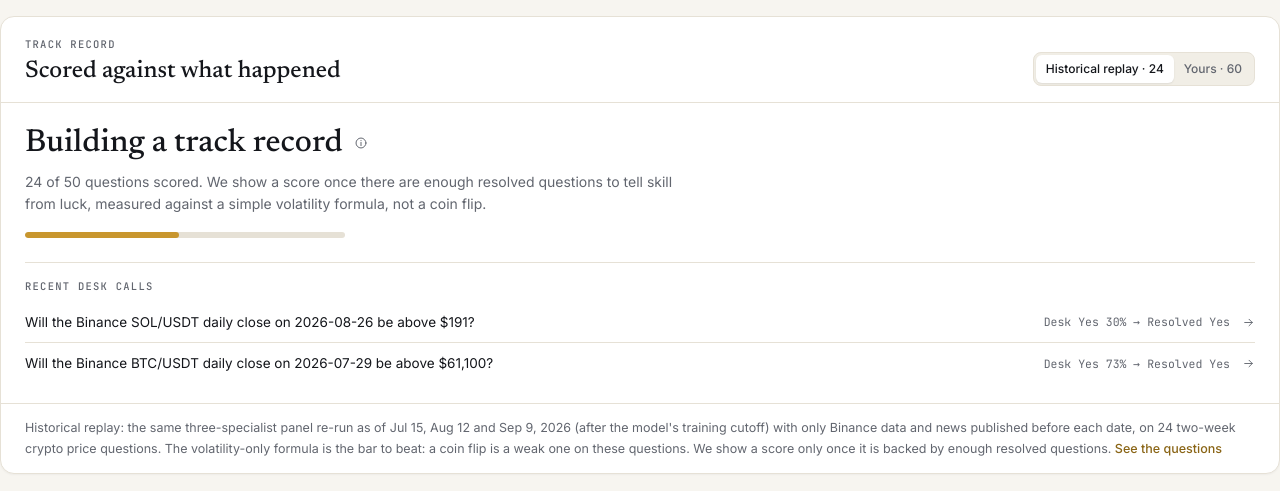
Scenario: TrackRecordCard › labels a user's multi-outcome baseline as a uniform guess, with no anchor
Click the button "Yours · 60" at (1213, 69), box [1174,55,1252,83]
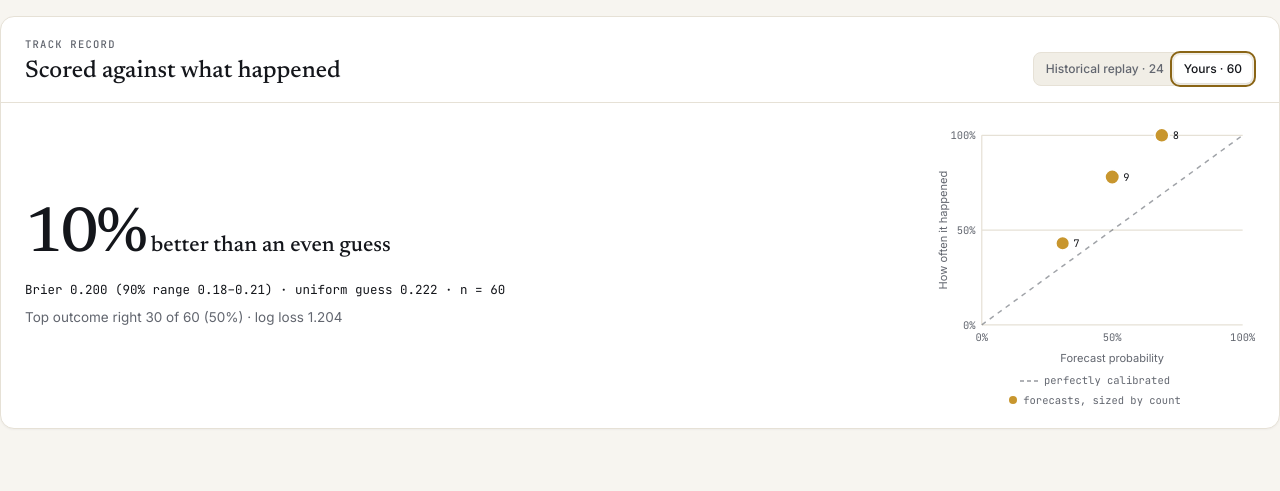
Check: the text "10% better than an even guess" is shown, box [25,235,391,257]
Check: the text "Brier" reads "Brier 0.200 (90% range 0.18–0.21) · uniform guess 0.222 · n = 60", box [25,281,505,298]
Check: the text "Top outcome right 30 of 60 (50%) · log loss 1.204" is shown, box [25,308,342,324]
